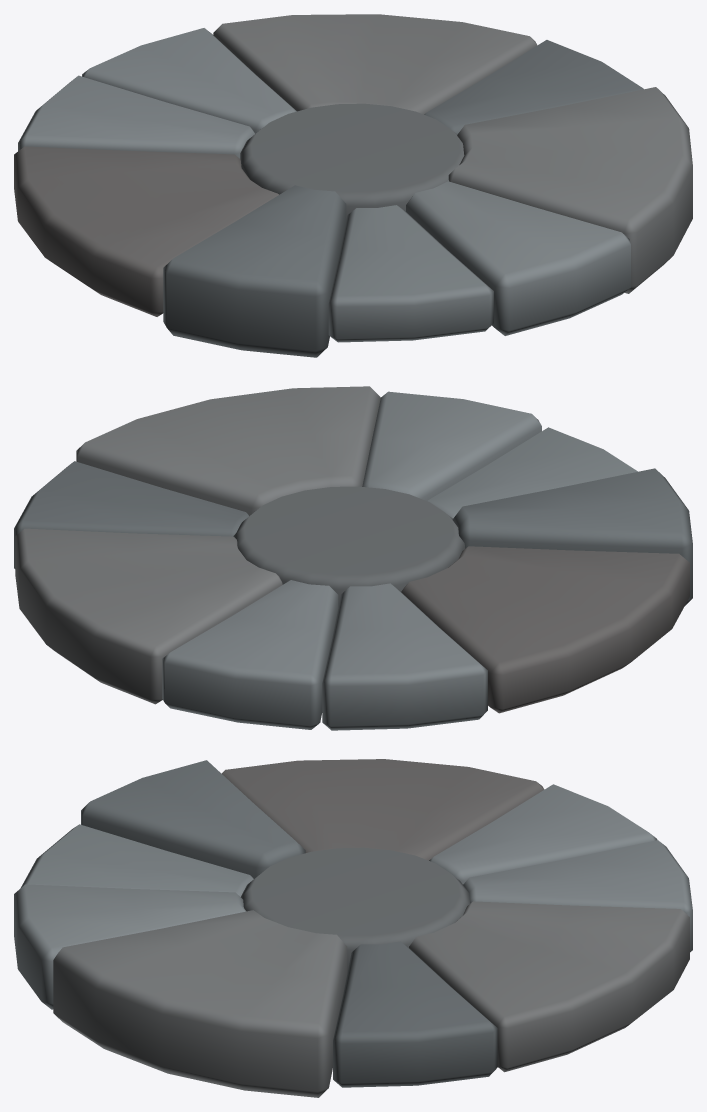
Rendered from obstacle_7_001.glb.
3 renders of one model, top to bottom at view 1: azimuth 30°, elevation 25°; view 2: azimuth 150°, elevation 25°; view 3: azimuth 270°, elevation 25°, orthographic.
Visible parts, largest first — view 1: obstacle_7_001; view 2: obstacle_7_001; view 3: obstacle_7_001.
Part boxes in pixels (bbox=[...]): obstacle_7_001: bbox=[14, 14, 692, 357]; obstacle_7_001: bbox=[14, 386, 692, 730]; obstacle_7_001: bbox=[14, 759, 692, 1097].
Size of the model in its own units: 5.84 by 0.7353 by 5.88.
1 material, 1 textured.
